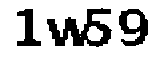1: (14, 7, 45, 51)
5: (86, 7, 118, 47)
9: (116, 6, 154, 51)
w: (47, 15, 89, 49)
